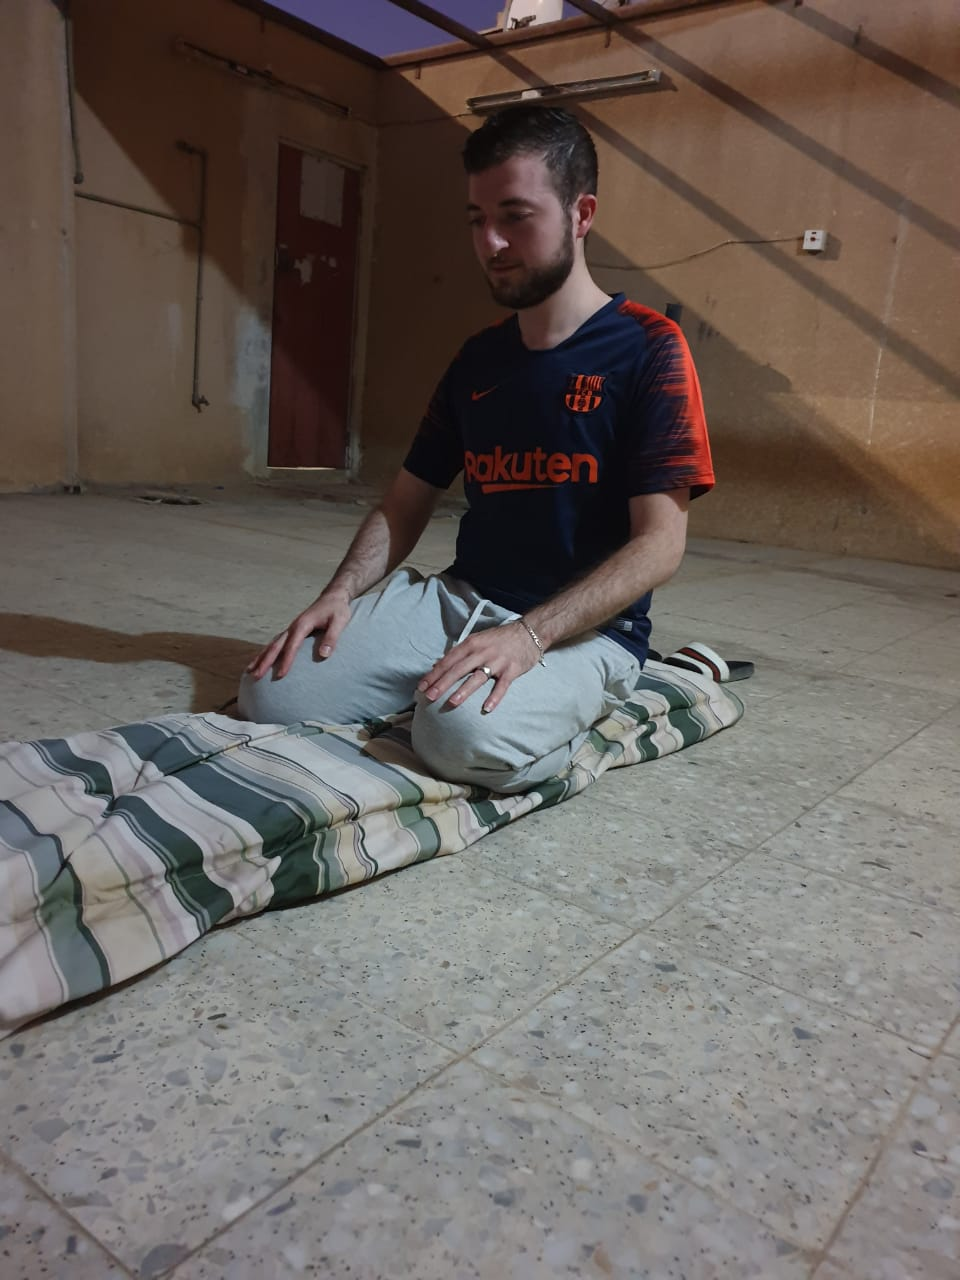sitting: (233, 105, 723, 810)
